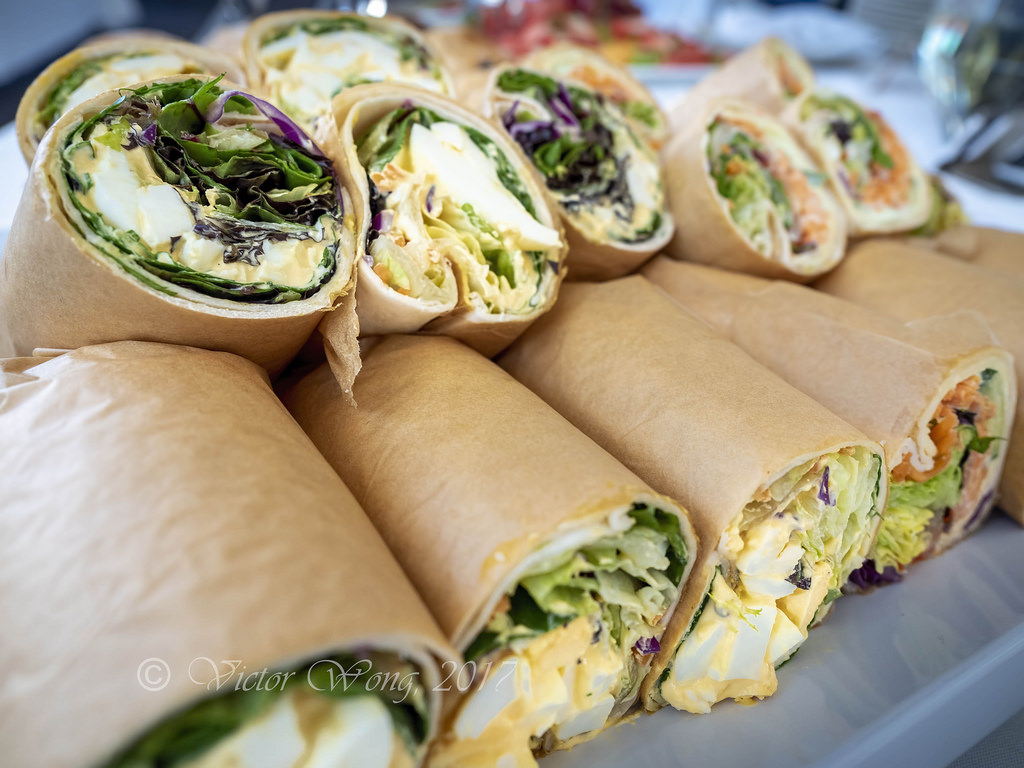chopped lettuce: (150, 114, 304, 209)
